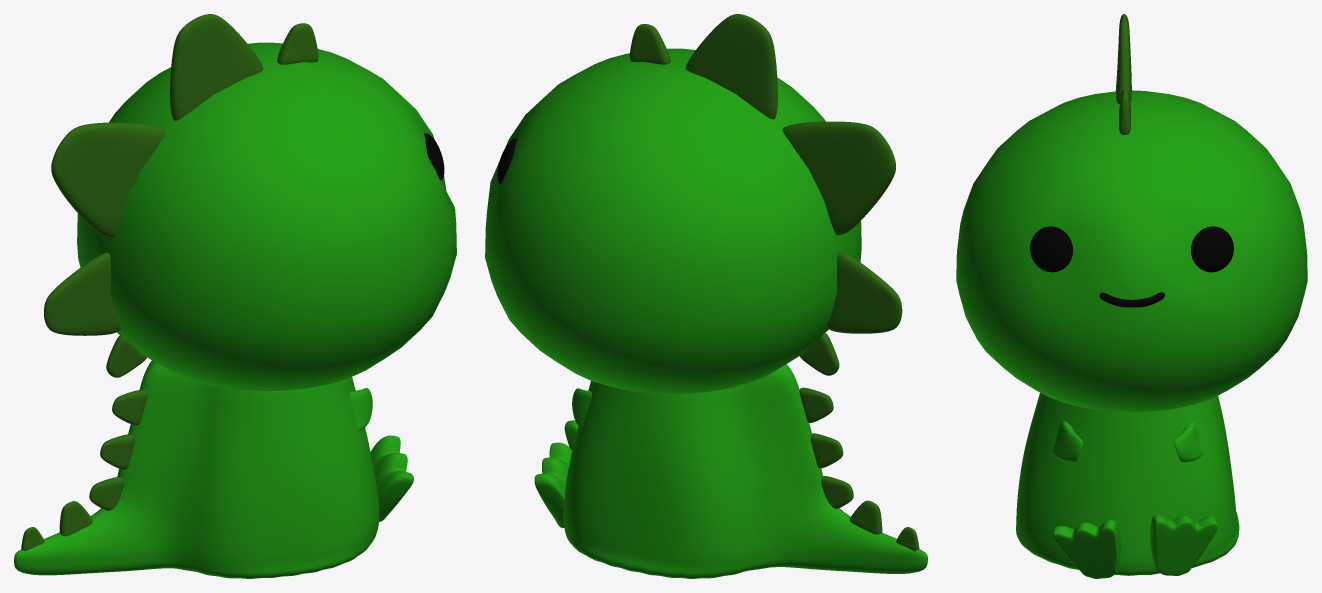
The model's file is dino.glb.
3 views of the same model, side by side, from view 1: azimuth 30°, elevation 25°; view 2: azimuth 150°, elevation 25°; view 3: azimuth 270°, elevation 25° (orthographic). The views are drawn at different scales.
Visible parts, largest first — view 1: golova, Cylinder.001, greben.002, greben, greben.003, lapca.001, greben.001, greben.004, greben.005, greben.006, greben.007, greben.008 (+1 smaller); view 2: golova, Cylinder.001, greben.002, greben, greben.003, lapca, greben.001, greben.004, greben.005, greben.006, greben.008, greben.007 (+1 smaller); view 3: golova, Cylinder.001, Sphere.001, lapca, lapca.001, greben.010, greben, Cylinder, greben.001.
Boxes of the visible parts, x1,y1,x2,y2 form: golova: [77, 42, 456, 390]; Cylinder.001: [14, 360, 379, 578]; greben.002: [51, 122, 165, 237]; greben: [170, 14, 263, 120]; greben.003: [44, 252, 120, 335]; lapca.001: [370, 435, 413, 521]; greben.001: [277, 23, 318, 64]; greben.004: [106, 334, 146, 377]; greben.005: [112, 389, 147, 425]; greben.006: [100, 434, 134, 469]; greben.007: [89, 477, 124, 510]; greben.008: [59, 501, 92, 536]; golova: [485, 48, 861, 393]; Cylinder.001: [563, 364, 927, 578]; greben.002: [782, 121, 895, 235]; greben: [685, 14, 777, 119]; greben.003: [826, 251, 902, 333]; lapca: [534, 442, 572, 527]; greben.001: [629, 24, 670, 64]; greben.004: [799, 332, 839, 375]; greben.005: [799, 387, 833, 422]; greben.006: [810, 433, 843, 468]; greben.008: [849, 500, 882, 534]; greben.007: [821, 476, 853, 508]; golova: [956, 90, 1307, 412]; Cylinder.001: [1016, 392, 1239, 575]; Sphere.001: [1030, 226, 1233, 272]; lapca: [1150, 515, 1217, 575]; lapca.001: [1052, 519, 1120, 578]; greben.010: [1053, 420, 1202, 462]; greben: [1116, 14, 1131, 104]; Cylinder: [1099, 292, 1164, 307]; greben.001: [1119, 89, 1130, 134].
Bounding box in the file's own units: 2.27 × 2.79 × 1.79.
